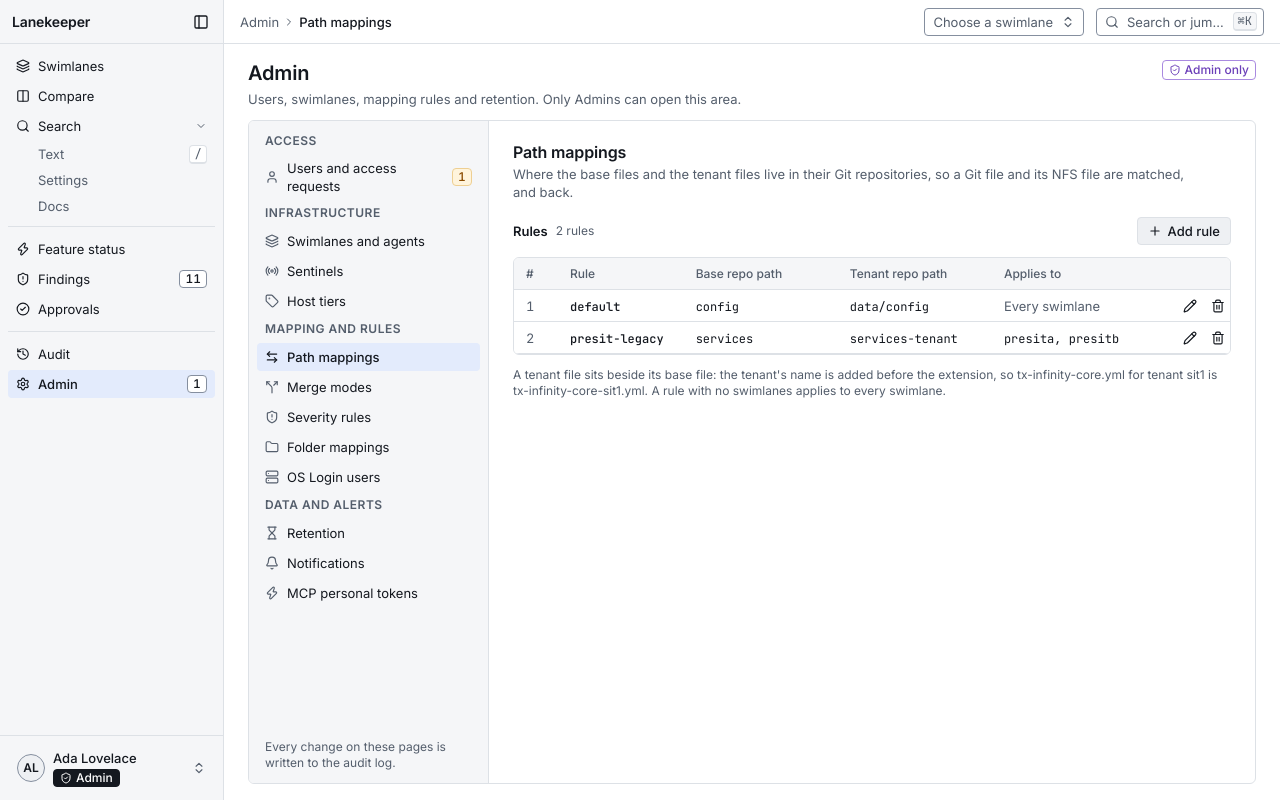
Scenario: adding a rule › wants at least one swimlane when it is for some swimlanes
Check: the heading "Admin" is shown, box [248, 61, 309, 85]
Click the button "Add rule" at point(1184, 231), box [1137, 217, 1231, 245]
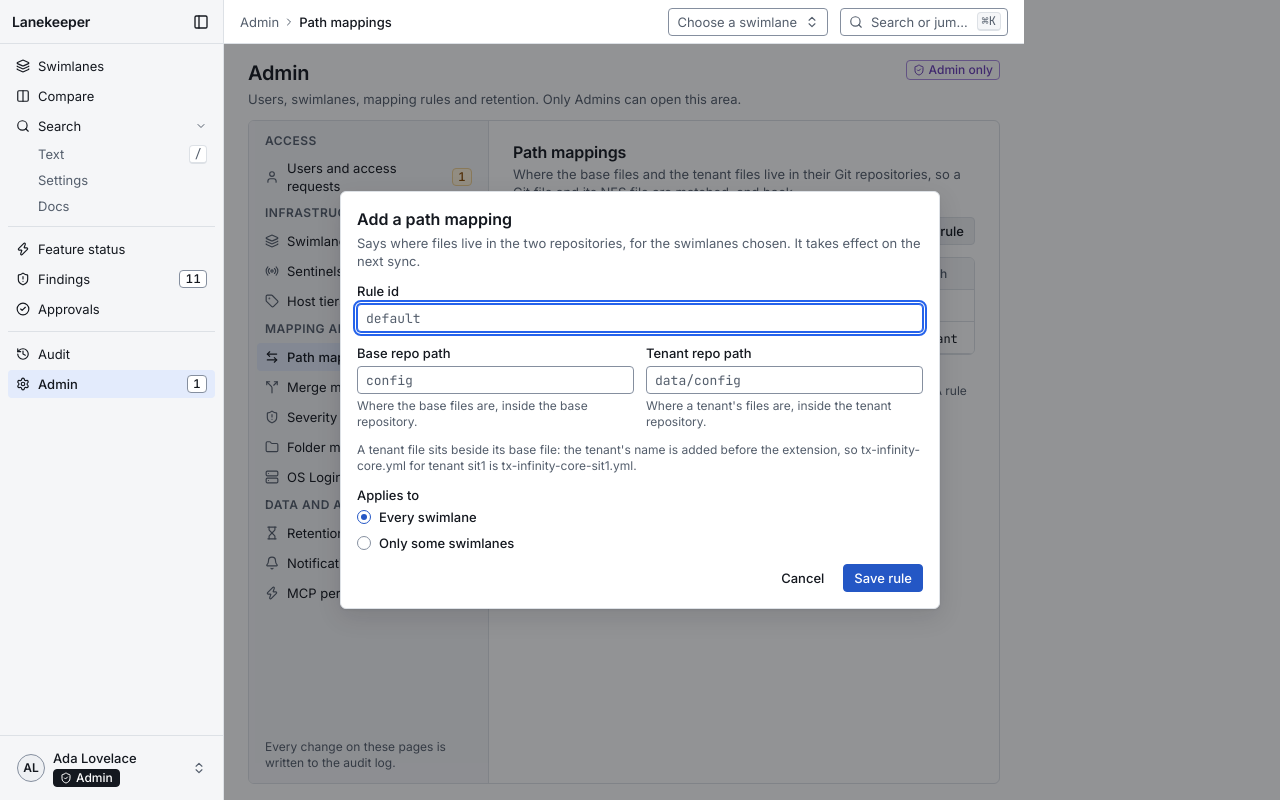
Type "some" into the field labelled "Rule id" at point(640, 318), box [357, 304, 923, 332]
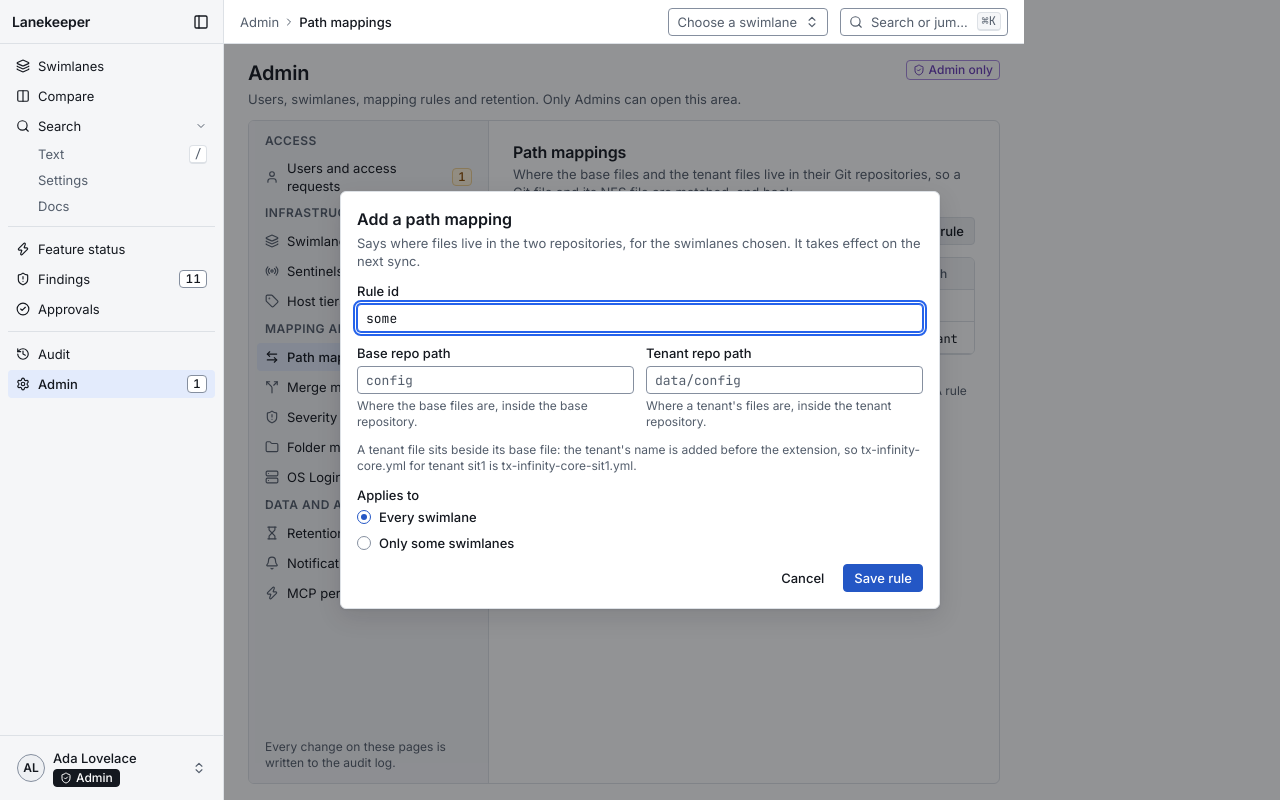
Type "a" into the field labelled "Base repo path" at point(496, 380), box [357, 366, 634, 394]
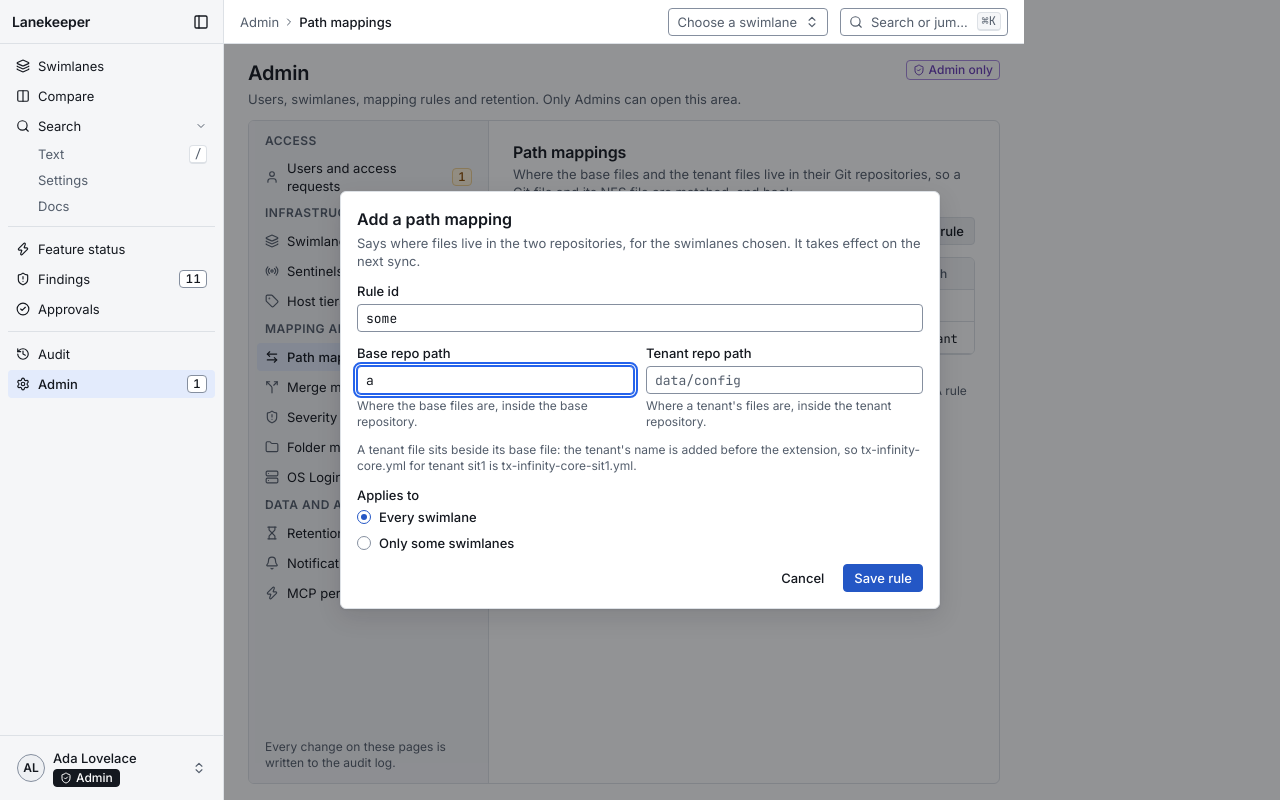
Type "b" into the field labelled "Tenant repo path" at point(784, 380), box [646, 366, 923, 394]
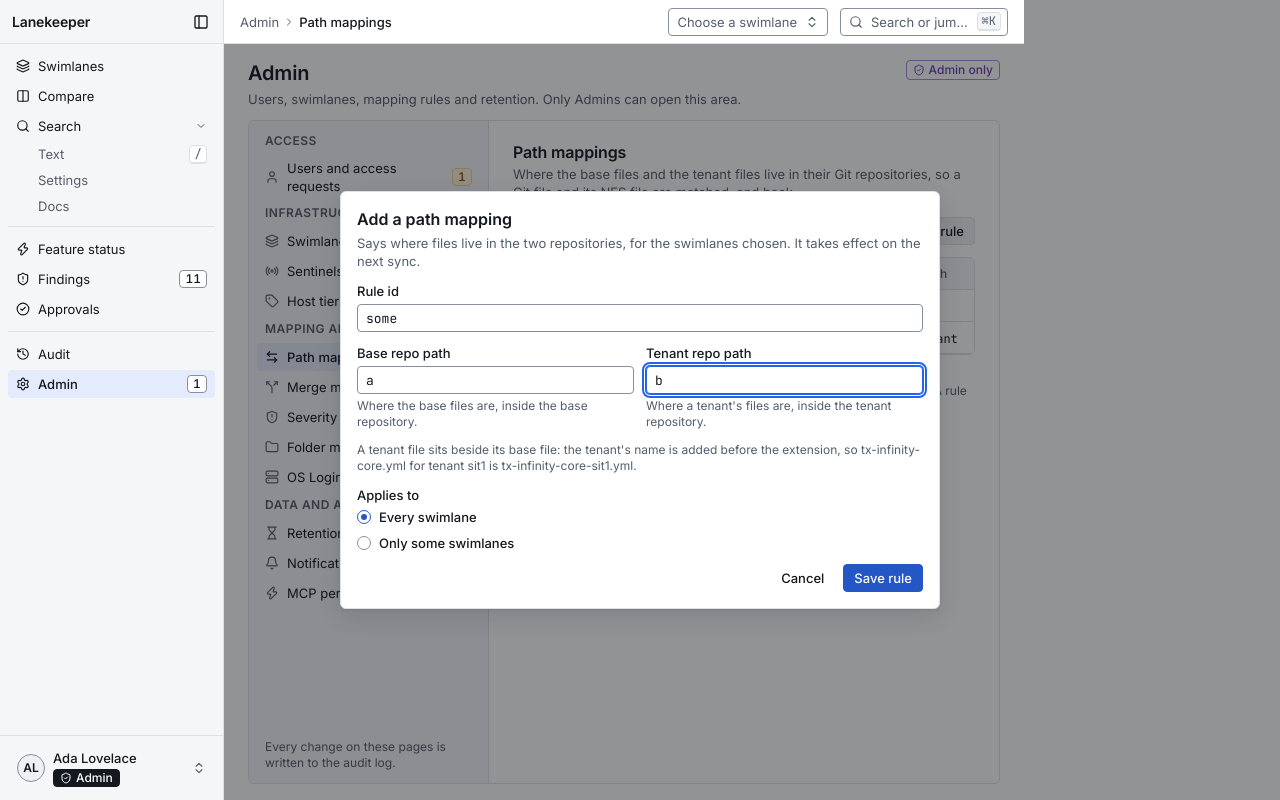
Click the radio button named "Only some swimlanes" next to "Only some swimlanes" at point(364, 543), box [357, 536, 371, 550]
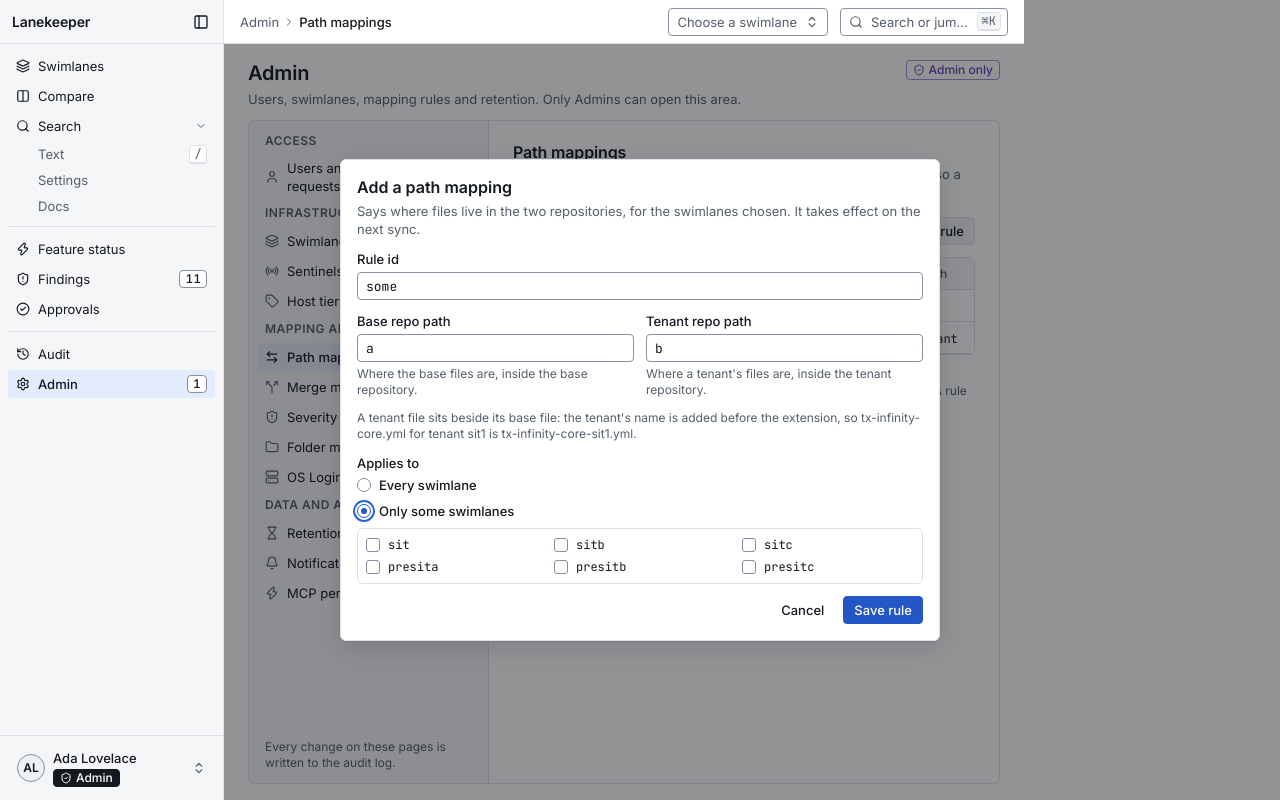
Click the button "Save rule" at point(883, 610), box [843, 596, 923, 624]
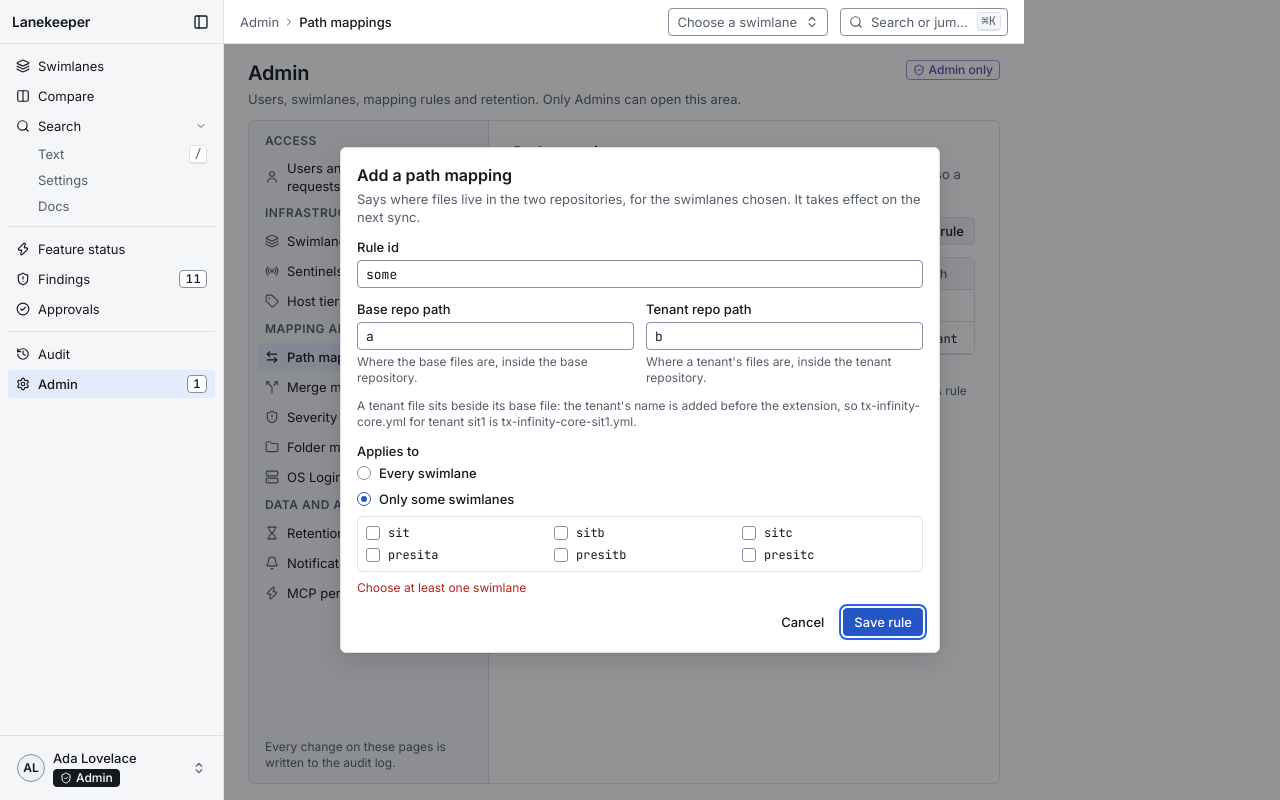
Check: the text "Choose at least one swimlane" is shown, box [357, 580, 526, 595]
